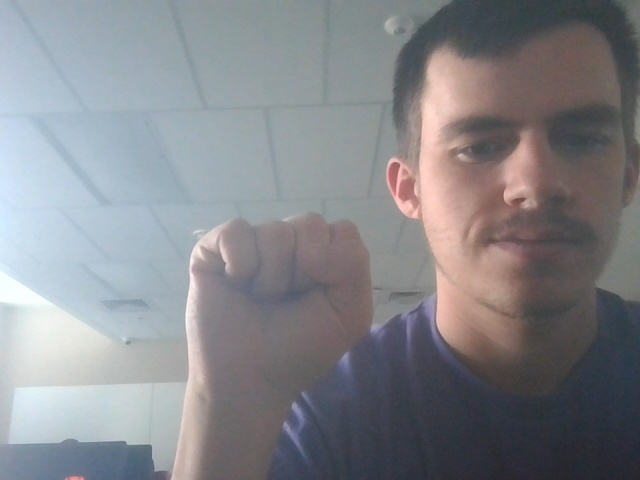yes: (171, 211, 395, 398)
